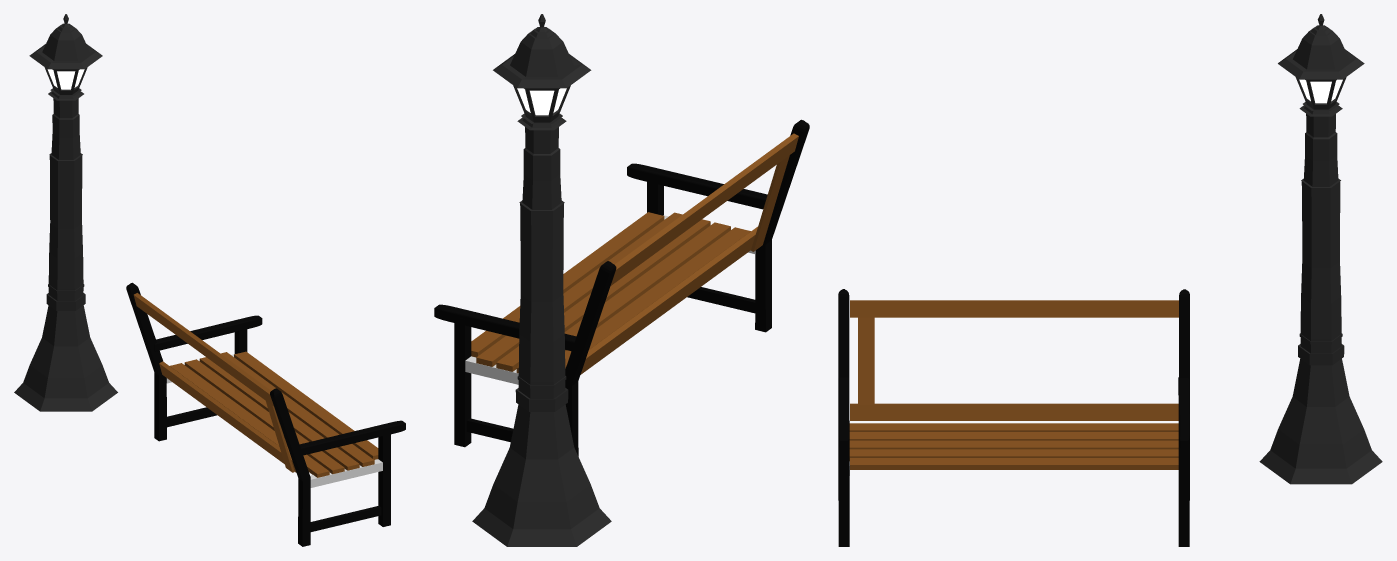
3 views of the same model, side by side, from view 1: azimuth 30°, elevation 25°; view 2: azimuth 150°, elevation 25°; view 3: azimuth 270°, elevation 25° (orthographic). The views are drawn at different scales.
Parts seen in each view (by area): view 1: Cylinder, Cube.010, Cube.002, Cube.008, Cube.007, Cube.004, Cube.012, Cube.015, Cube.016, Cube.001, Cube.013, Cube.009 (+2 smaller); view 2: Cylinder, Cube.010, Cube.008, Cube.012, Cube.004, Cube.002, Cube.007, Cube.003, Cube.015, Cube.016, Cube.006, Cube.013 (+3 smaller); view 3: Cylinder, Cube.010, Cube.008, Cube.012, Cube.007, Cube.006, Cube.001, Cube.003, Cube.002, Cube.004, Cube.015, Cube.016.
Part boxes in pixels (<box>): Cylinder: <box>14,14,117,411</box>; Cube.010: <box>170,352,374,477</box>; Cube.002: <box>270,388,310,546</box>; Cube.008: <box>133,293,273,406</box>; Cube.007: <box>234,351,378,459</box>; Cube.004: <box>126,282,166,441</box>; Cube.012: <box>159,361,296,472</box>; Cube.015: <box>299,420,405,455</box>; Cube.016: <box>154,315,262,351</box>; Cube.001: <box>378,430,390,526</box>; Cube.013: <box>310,506,381,531</box>; Cube.009: <box>310,459,382,487</box>; Cylinder: <box>472,14,611,546</box>; Cube.010: <box>476,212,750,373</box>; Cube.008: <box>610,133,798,285</box>; Cube.012: <box>580,226,757,374</box>; Cube.004: <box>565,261,616,456</box>; Cube.002: <box>755,119,809,332</box>; Cube.007: <box>471,212,664,357</box>; Cube.003: <box>454,317,471,447</box>; Cube.015: <box>627,163,767,209</box>; Cube.016: <box>434,304,576,351</box>; Cube.006: <box>751,155,789,251</box>; Cube.013: <box>687,287,755,313</box>; Cylinder: <box>1259,14,1382,484</box>; Cube.010: <box>849,423,1178,460</box>; Cube.008: <box>850,300,1178,317</box>; Cube.012: <box>850,403,1178,420</box>; Cube.007: <box>850,458,1178,469</box>; Cube.006: <box>858,317,874,403</box>; Cube.001: <box>838,443,849,546</box>; Cube.003: <box>1178,443,1189,546</box>; Cube.002: <box>838,289,849,500</box>; Cube.004: <box>1179,289,1189,500</box>; Cube.015: <box>838,377,849,447</box>; Cube.016: <box>1178,377,1189,447</box>.
Size of the model in its own units: 2.19 by 4.66 by 4.97.
